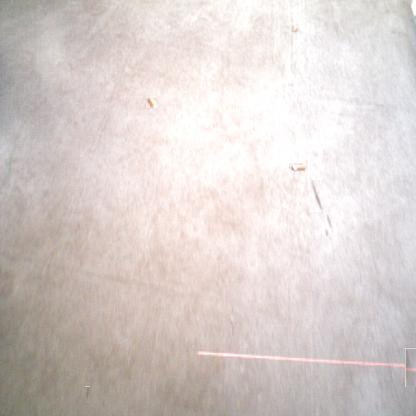dirty: (289, 164, 306, 172), (146, 97, 157, 109), (290, 23, 298, 32)
mark: (405, 348, 416, 387), (310, 180, 323, 212), (325, 214, 333, 237), (84, 386, 90, 403)
